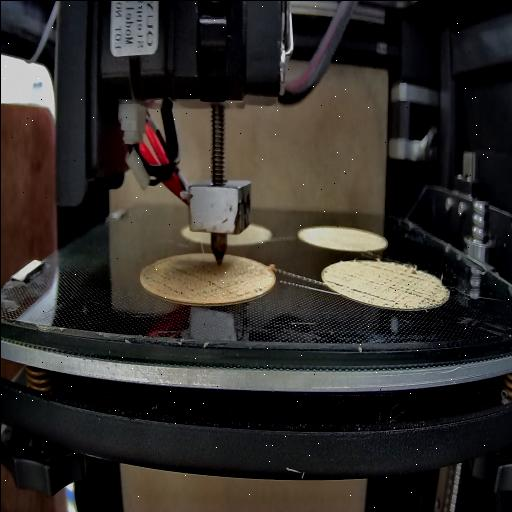under_extrusion: (350, 270, 438, 309), (152, 277, 262, 301), (324, 274, 346, 294)
